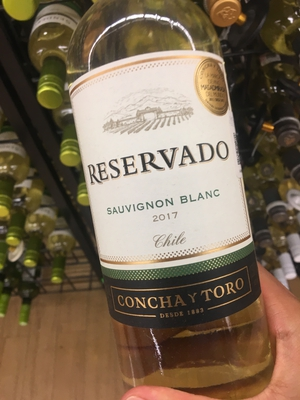reservado sauvignon blanc: (62, 13, 263, 370)
